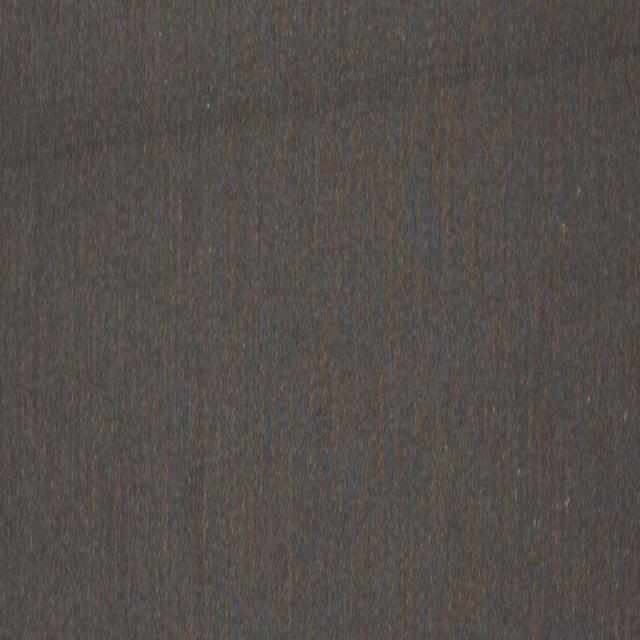Line: (0, 25, 640, 177)
